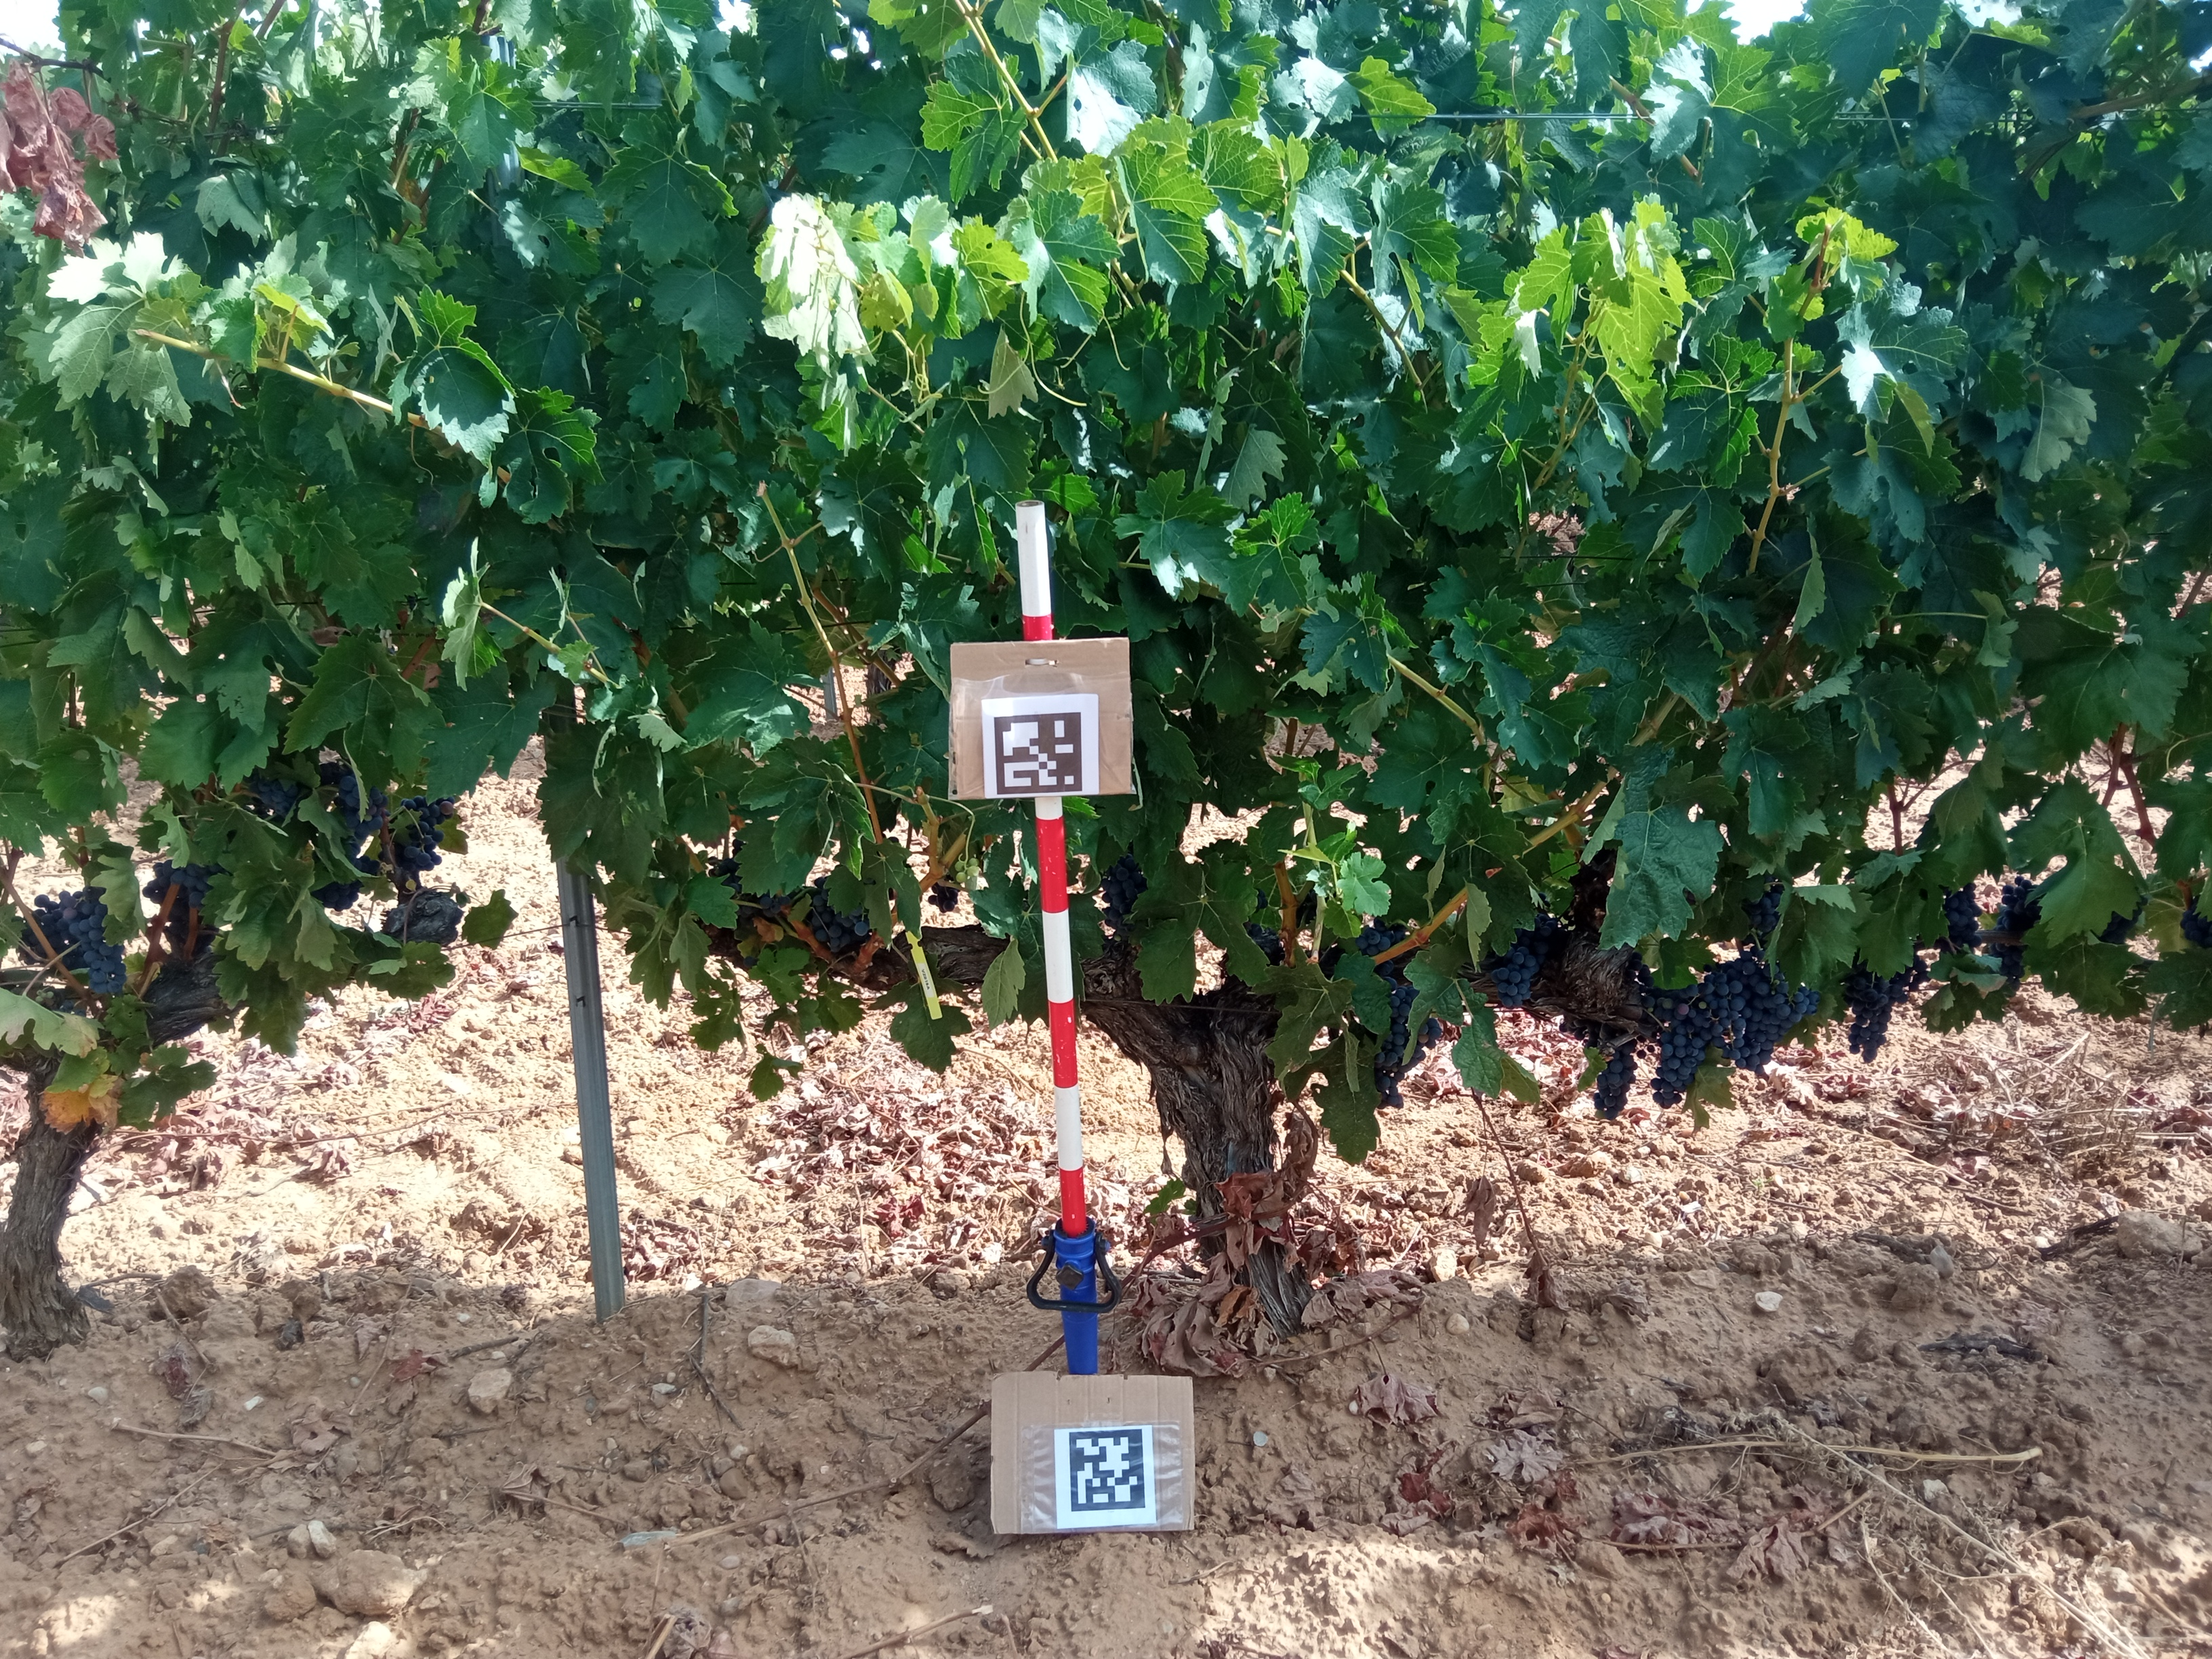grapes: (1703, 950, 1820, 1073), (1642, 985, 1723, 1108), (1844, 953, 1932, 1063), (1376, 960, 1440, 1107), (1559, 1018, 1637, 1119), (63, 887, 127, 993), (143, 863, 218, 953), (1493, 915, 1559, 1007), (1991, 877, 2043, 992), (19, 890, 85, 969), (813, 877, 867, 951), (401, 796, 455, 870), (1101, 854, 1146, 927), (334, 777, 388, 838), (162, 861, 221, 910), (1944, 885, 1982, 957), (2101, 896, 2148, 945), (242, 774, 296, 814), (1742, 892, 1782, 945), (1357, 917, 1406, 955), (310, 880, 364, 911), (709, 840, 742, 890), (2179, 899, 2212, 948), (343, 836, 380, 875), (738, 896, 791, 917), (928, 877, 958, 911), (1627, 951, 1656, 986), (1296, 890, 1318, 925), (320, 763, 352, 784), (956, 857, 979, 882), (1254, 887, 1268, 911), (744, 957, 756, 967)
